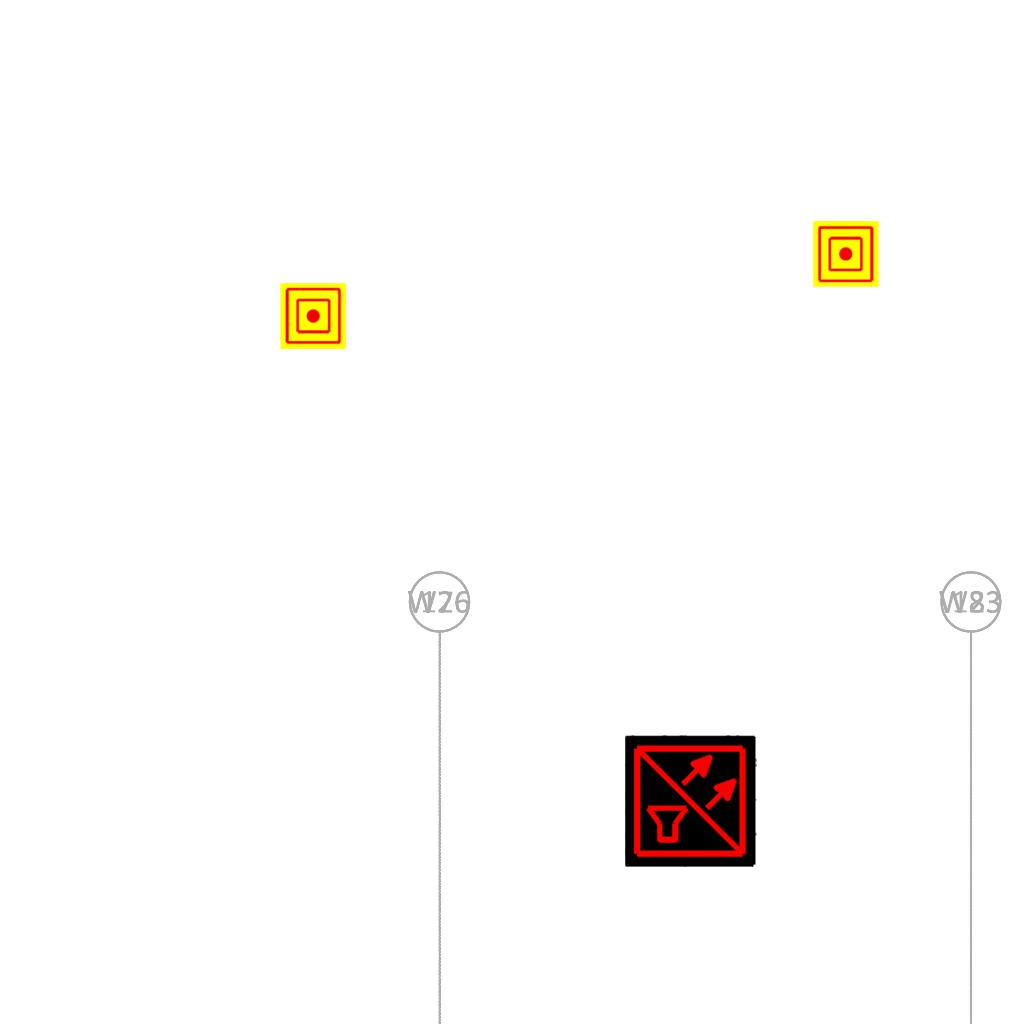NAM-Nichtautomatischer_Melder: (813, 221, 879, 287), (280, 283, 346, 349)
OKW_Multisensormelder_(Kombination_optischer_Rauch-Kahlenmonoxid_Waerme-Melder): (625, 735, 757, 867)
